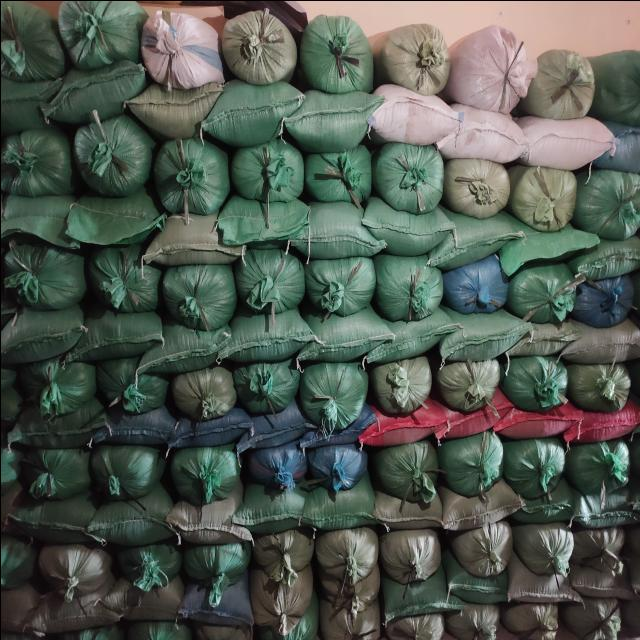Bistay sand: (8, 356, 109, 425), (105, 356, 185, 418), (160, 361, 240, 423), (229, 140, 316, 196), (298, 151, 385, 207), (367, 146, 454, 202), (78, 451, 173, 502), (1, 450, 95, 501), (160, 449, 254, 500), (5, 6, 60, 88), (83, 247, 162, 304), (67, 1, 137, 65), (140, 17, 210, 81), (301, 20, 371, 84), (380, 27, 450, 91), (455, 32, 525, 96), (532, 56, 602, 120), (4, 249, 83, 305), (309, 531, 388, 587), (228, 16, 297, 80), (157, 265, 235, 321), (229, 255, 307, 311), (301, 252, 379, 308), (378, 261, 456, 317), (441, 253, 511, 314), (511, 261, 581, 322), (571, 270, 640, 331), (4, 138, 72, 199), (76, 128, 144, 189), (154, 145, 222, 206), (507, 356, 577, 413), (508, 225, 592, 272), (436, 215, 520, 262), (373, 205, 457, 252), (149, 216, 233, 263), (74, 197, 158, 244), (223, 319, 317, 361), (143, 324, 237, 366), (75, 314, 169, 356), (1, 311, 95, 353), (235, 362, 305, 418), (299, 370, 369, 426), (363, 362, 433, 418), (442, 357, 512, 413), (566, 357, 636, 413), (509, 446, 579, 501), (298, 442, 368, 496), (440, 442, 510, 496), (372, 449, 442, 503), (567, 445, 637, 499), (523, 116, 603, 163), (444, 113, 524, 160), (373, 92, 453, 139), (291, 95, 371, 142), (217, 90, 297, 137), (132, 92, 212, 139), (54, 74, 134, 121), (249, 445, 318, 499), (27, 592, 118, 632), (442, 167, 513, 218), (513, 171, 584, 222), (5, 198, 69, 254), (447, 519, 510, 575), (513, 525, 575, 581), (572, 522, 634, 578), (596, 50, 640, 122), (40, 546, 119, 586), (112, 544, 191, 584), (172, 546, 251, 586), (237, 543, 316, 583), (227, 204, 290, 253), (305, 205, 367, 254), (586, 181, 640, 233), (586, 232, 640, 284), (502, 322, 575, 359), (444, 319, 517, 355), (370, 322, 443, 358), (311, 321, 384, 357), (568, 327, 640, 363), (572, 493, 636, 533), (516, 491, 580, 531), (446, 492, 510, 532), (377, 491, 441, 531), (318, 497, 382, 537), (242, 493, 306, 533), (168, 496, 232, 536), (108, 507, 172, 547), (32, 503, 96, 543), (105, 415, 184, 447), (576, 411, 639, 449), (511, 404, 574, 442), (442, 401, 505, 439), (373, 412, 436, 450), (304, 411, 367, 449), (238, 407, 301, 445), (185, 419, 248, 457), (572, 603, 633, 639), (184, 584, 252, 616), (122, 583, 190, 615), (184, 609, 252, 640), (124, 609, 192, 640), (1, 539, 47, 584), (604, 115, 640, 171), (1, 88, 47, 130), (508, 603, 564, 637), (386, 604, 442, 638), (321, 600, 377, 634), (256, 581, 312, 615), (448, 607, 504, 640), (577, 571, 635, 602), (519, 577, 577, 608), (445, 574, 503, 605), (387, 583, 445, 614), (285, 615, 324, 637)
